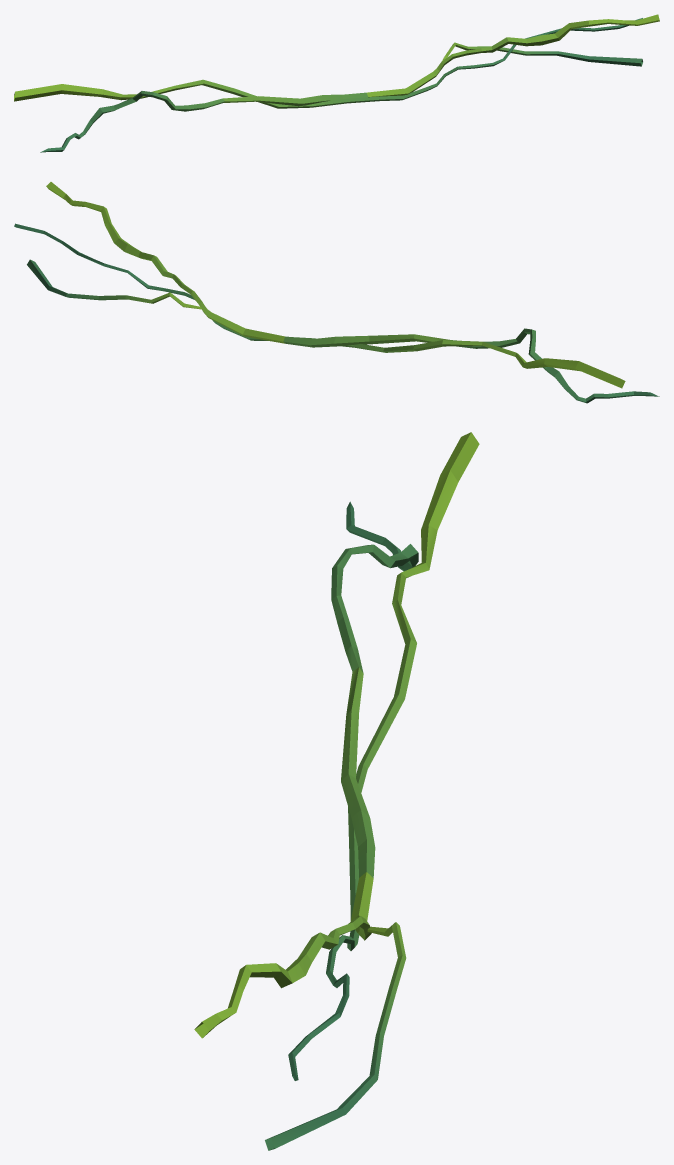
The model's file is ZLP_Plant_Vine_B_3.FBX.
3 views of the same model, one above another, from view 1: azimuth 30°, elevation 25°; view 2: azimuth 150°, elevation 25°; view 3: azimuth 270°, elevation 25° (orthographic). The views are drawn at different scales.
Visible parts, largest first — view 1: ZLP_Plant_Vine_B_3; view 2: ZLP_Plant_Vine_B_3; view 3: ZLP_Plant_Vine_B_3.
Boxes of the visible parts, x1=… form: ZLP_Plant_Vine_B_3: x1=14, y1=14, x2=659, y2=152; ZLP_Plant_Vine_B_3: x1=14, y1=182, x2=659, y2=403; ZLP_Plant_Vine_B_3: x1=194, y1=432, x2=479, y2=1150.
Size of the model in its own units: 1143 by 148 by 239.
